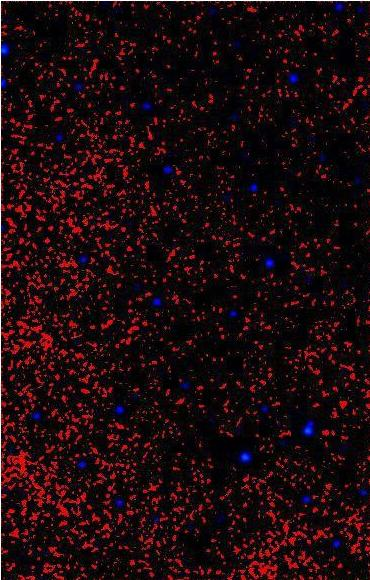star: (299, 398, 329, 428)
